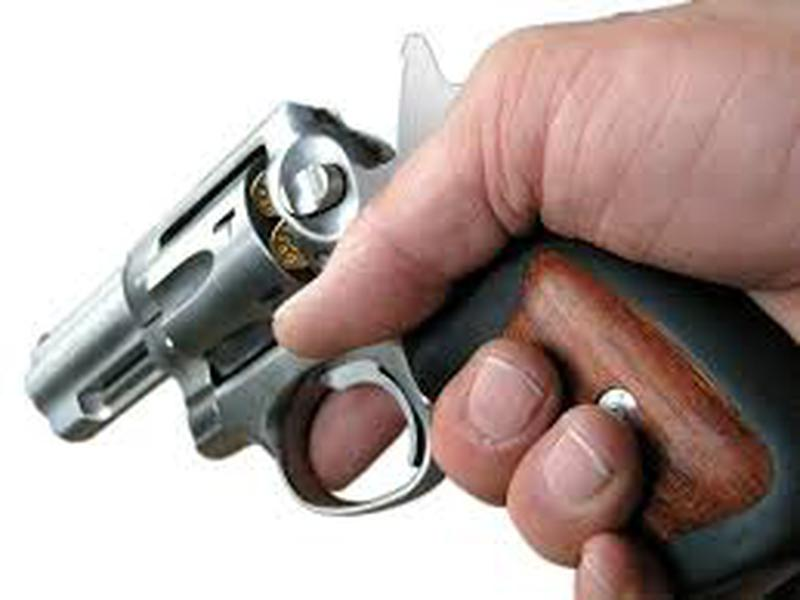gun: (24, 25, 797, 597), (2, 44, 800, 591), (1, 42, 798, 589)
